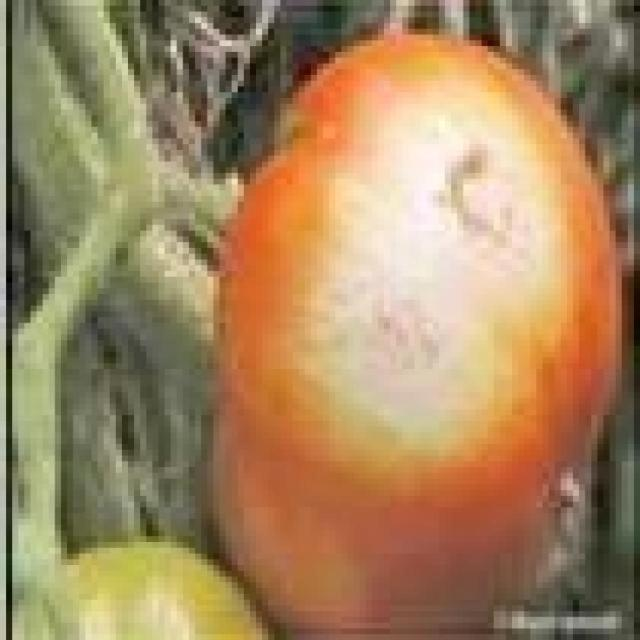Sunscald Fruit: (181, 40, 376, 313)
